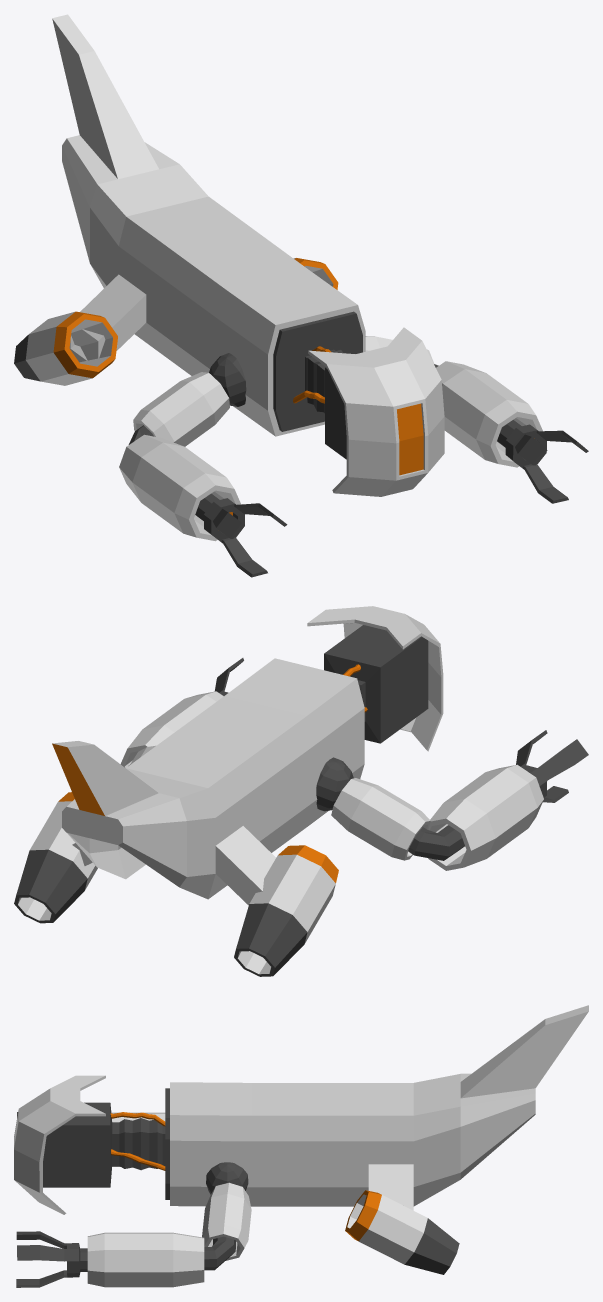
The model's file is Boss.fbx.
The picture shows the model from 3 angles, top to bottom: view 1: azimuth 30°, elevation 25°; view 2: azimuth 150°, elevation 25°; view 3: azimuth 270°, elevation 25°; orthographic projection. The views are drawn at different scales.
Visible parts, largest first — view 1: Body, RightArm, LeftArm; view 2: Body, RightArm, LeftArm; view 3: Body, LeftArm.
Boxes of the visible parts, x1,y1,x2,y2 form: Body: (14, 14, 444, 496); RightArm: (119, 429, 287, 577); LeftArm: (434, 361, 588, 503); Body: (14, 606, 443, 976); RightArm: (414, 730, 588, 870); LeftArm: (120, 658, 243, 767); Body: (14, 1005, 588, 1274); LeftArm: (16, 1231, 235, 1287).
Bounding box in the file's own units: 759 × 542 × 1275.
